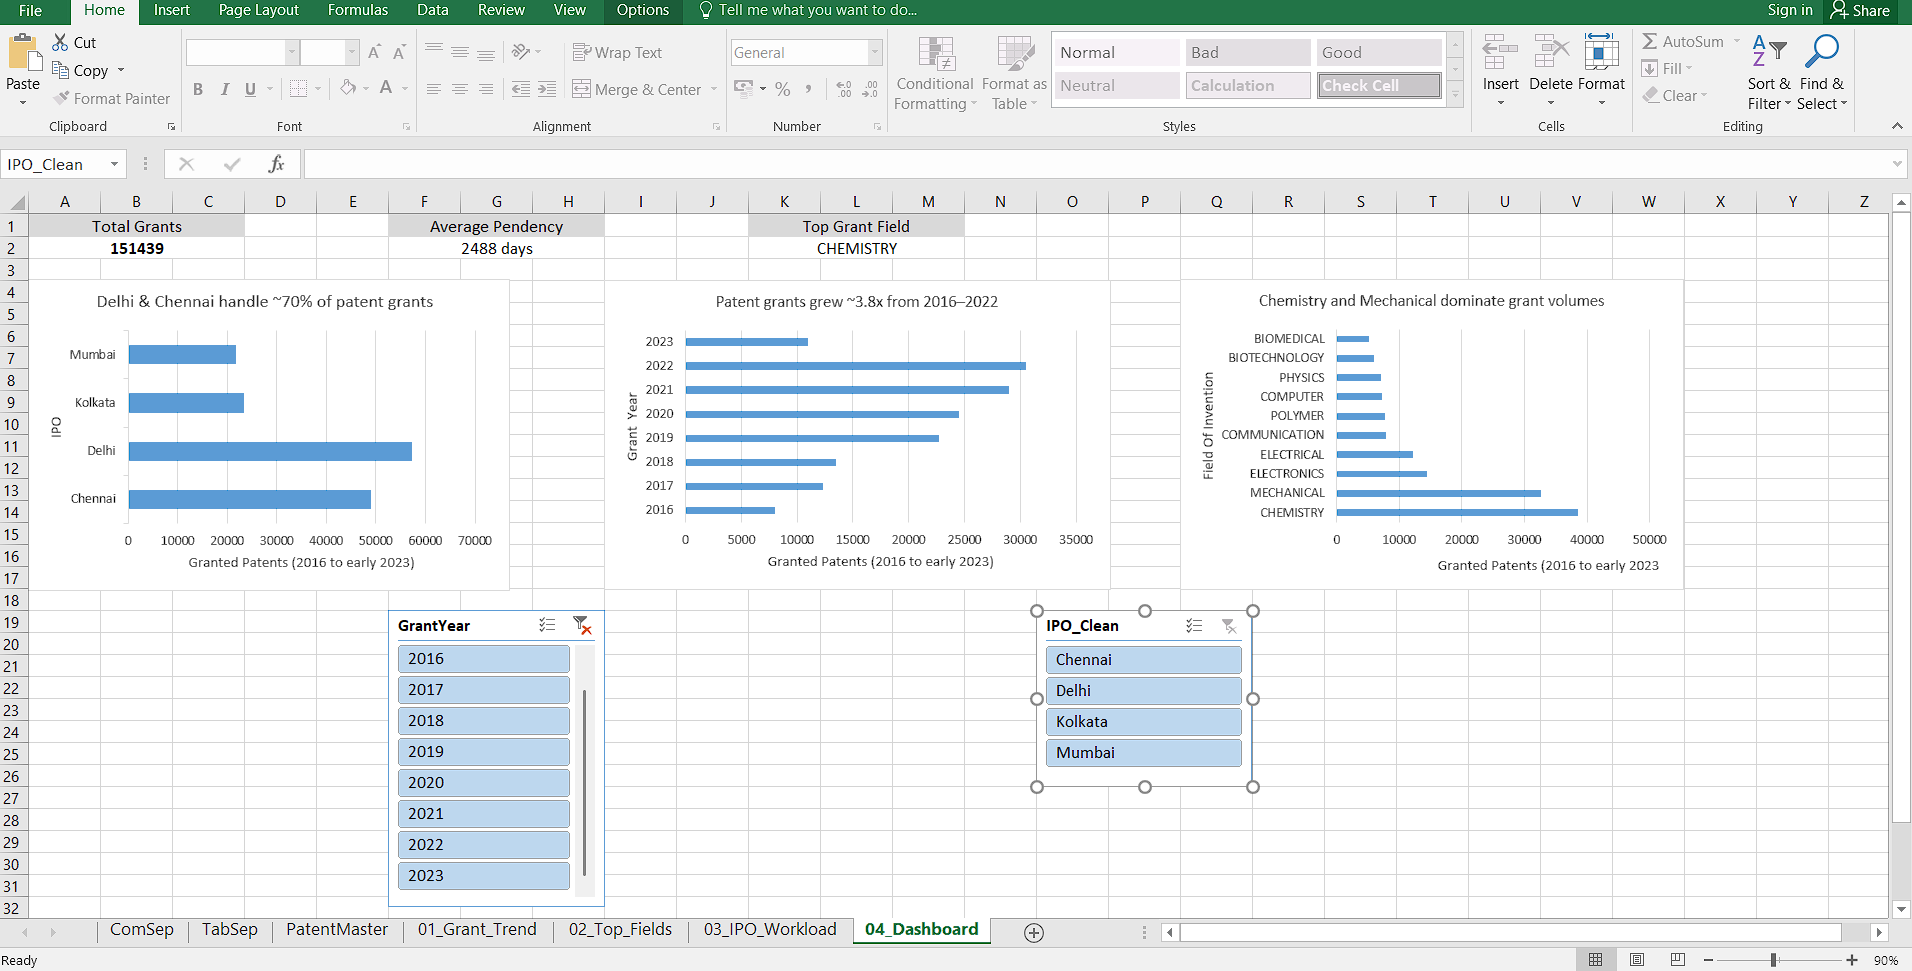

What the dashboard file says about the page in this screenshot:
{"tool":"powerbi","page":{"name":"Executive Overview","canvas":[1280,720],"ordinal":0},"visuals":[{"type":"lineChart","fields":{"Category":["Calendar.Year"],"Y":["PatentMaster.Total Grants"]},"box":[40.4,0,435.3,348.5],"z":0},{"type":"clusteredBarChart","title":"Delhi & Chennai handle ~70% of patent grants","fields":{"Category":["PatentMaster.IPO_Clean"],"Y":["CountNonNull(PatentMaster.IPO_Clean)"]},"box":[49.4,348.5,370.5,356.8],"z":1000},{"type":"clusteredBarChart","title":"Chemistry & Mechanical dominate grant volumes","fields":{"Category":["PatentMaster.FIELD_OF_INVENTION"],"Y":["PatentMaster.Total Grants"]},"box":[492.8,0,437.8,421.9],"z":2000},{"type":"slicer","fields":{"Values":["Calendar.Year"]},"box":[475.7,465.9,144.3,239.7],"z":3000},{"type":"slicer","fields":{"Values":["PatentMaster.IPO_Clean"]},"box":[711.7,542.9,160.2,150.4],"z":4000},{"type":"cardVisual","fields":{"Data":["PatentMaster.Total Grants"]},"box":[1093.2,0,187.1,140.6],"z":5000},{"type":"cardVisual","fields":{"Data":["PatentMaster.Avg Pendency"]},"box":[1093.2,139.4,185.9,145.5],"z":6000},{"type":"cardVisual","fields":{"Data":["PatentMaster.Median Pendency"]},"box":[1093.2,313,187.1,152.9],"z":7000},{"type":"cardVisual","fields":{"Data":["PatentMaster.YoY Growth %"]},"box":[1094.4,501.4,185.9,152.9],"z":8000}]}

Visuals, with their boxes on the page's 1280x720 design canvas (x1, y1, x2, y2). These are canvas units, not pixel positions in the 1912x971 screenshot, which may show the page scaled, cropped or inside an application window:
lineChart - Calendar.Year x PatentMaster.Total Grants: <region>40, 0, 476, 348</region>
"Delhi & Chennai handle ~70% of patent grants" clusteredBarChart: <region>49, 348, 420, 705</region>
"Chemistry & Mechanical dominate grant volumes" clusteredBarChart: <region>493, 0, 931, 422</region>
slicer - Calendar.Year: <region>476, 466, 620, 706</region>
slicer - PatentMaster.IPO_Clean: <region>712, 543, 872, 693</region>
cardVisual - PatentMaster.Total Grants: <region>1093, 0, 1280, 141</region>
cardVisual - PatentMaster.Avg Pendency: <region>1093, 139, 1279, 285</region>
cardVisual - PatentMaster.Median Pendency: <region>1093, 313, 1280, 466</region>
cardVisual - PatentMaster.YoY Growth %: <region>1094, 501, 1280, 654</region>
